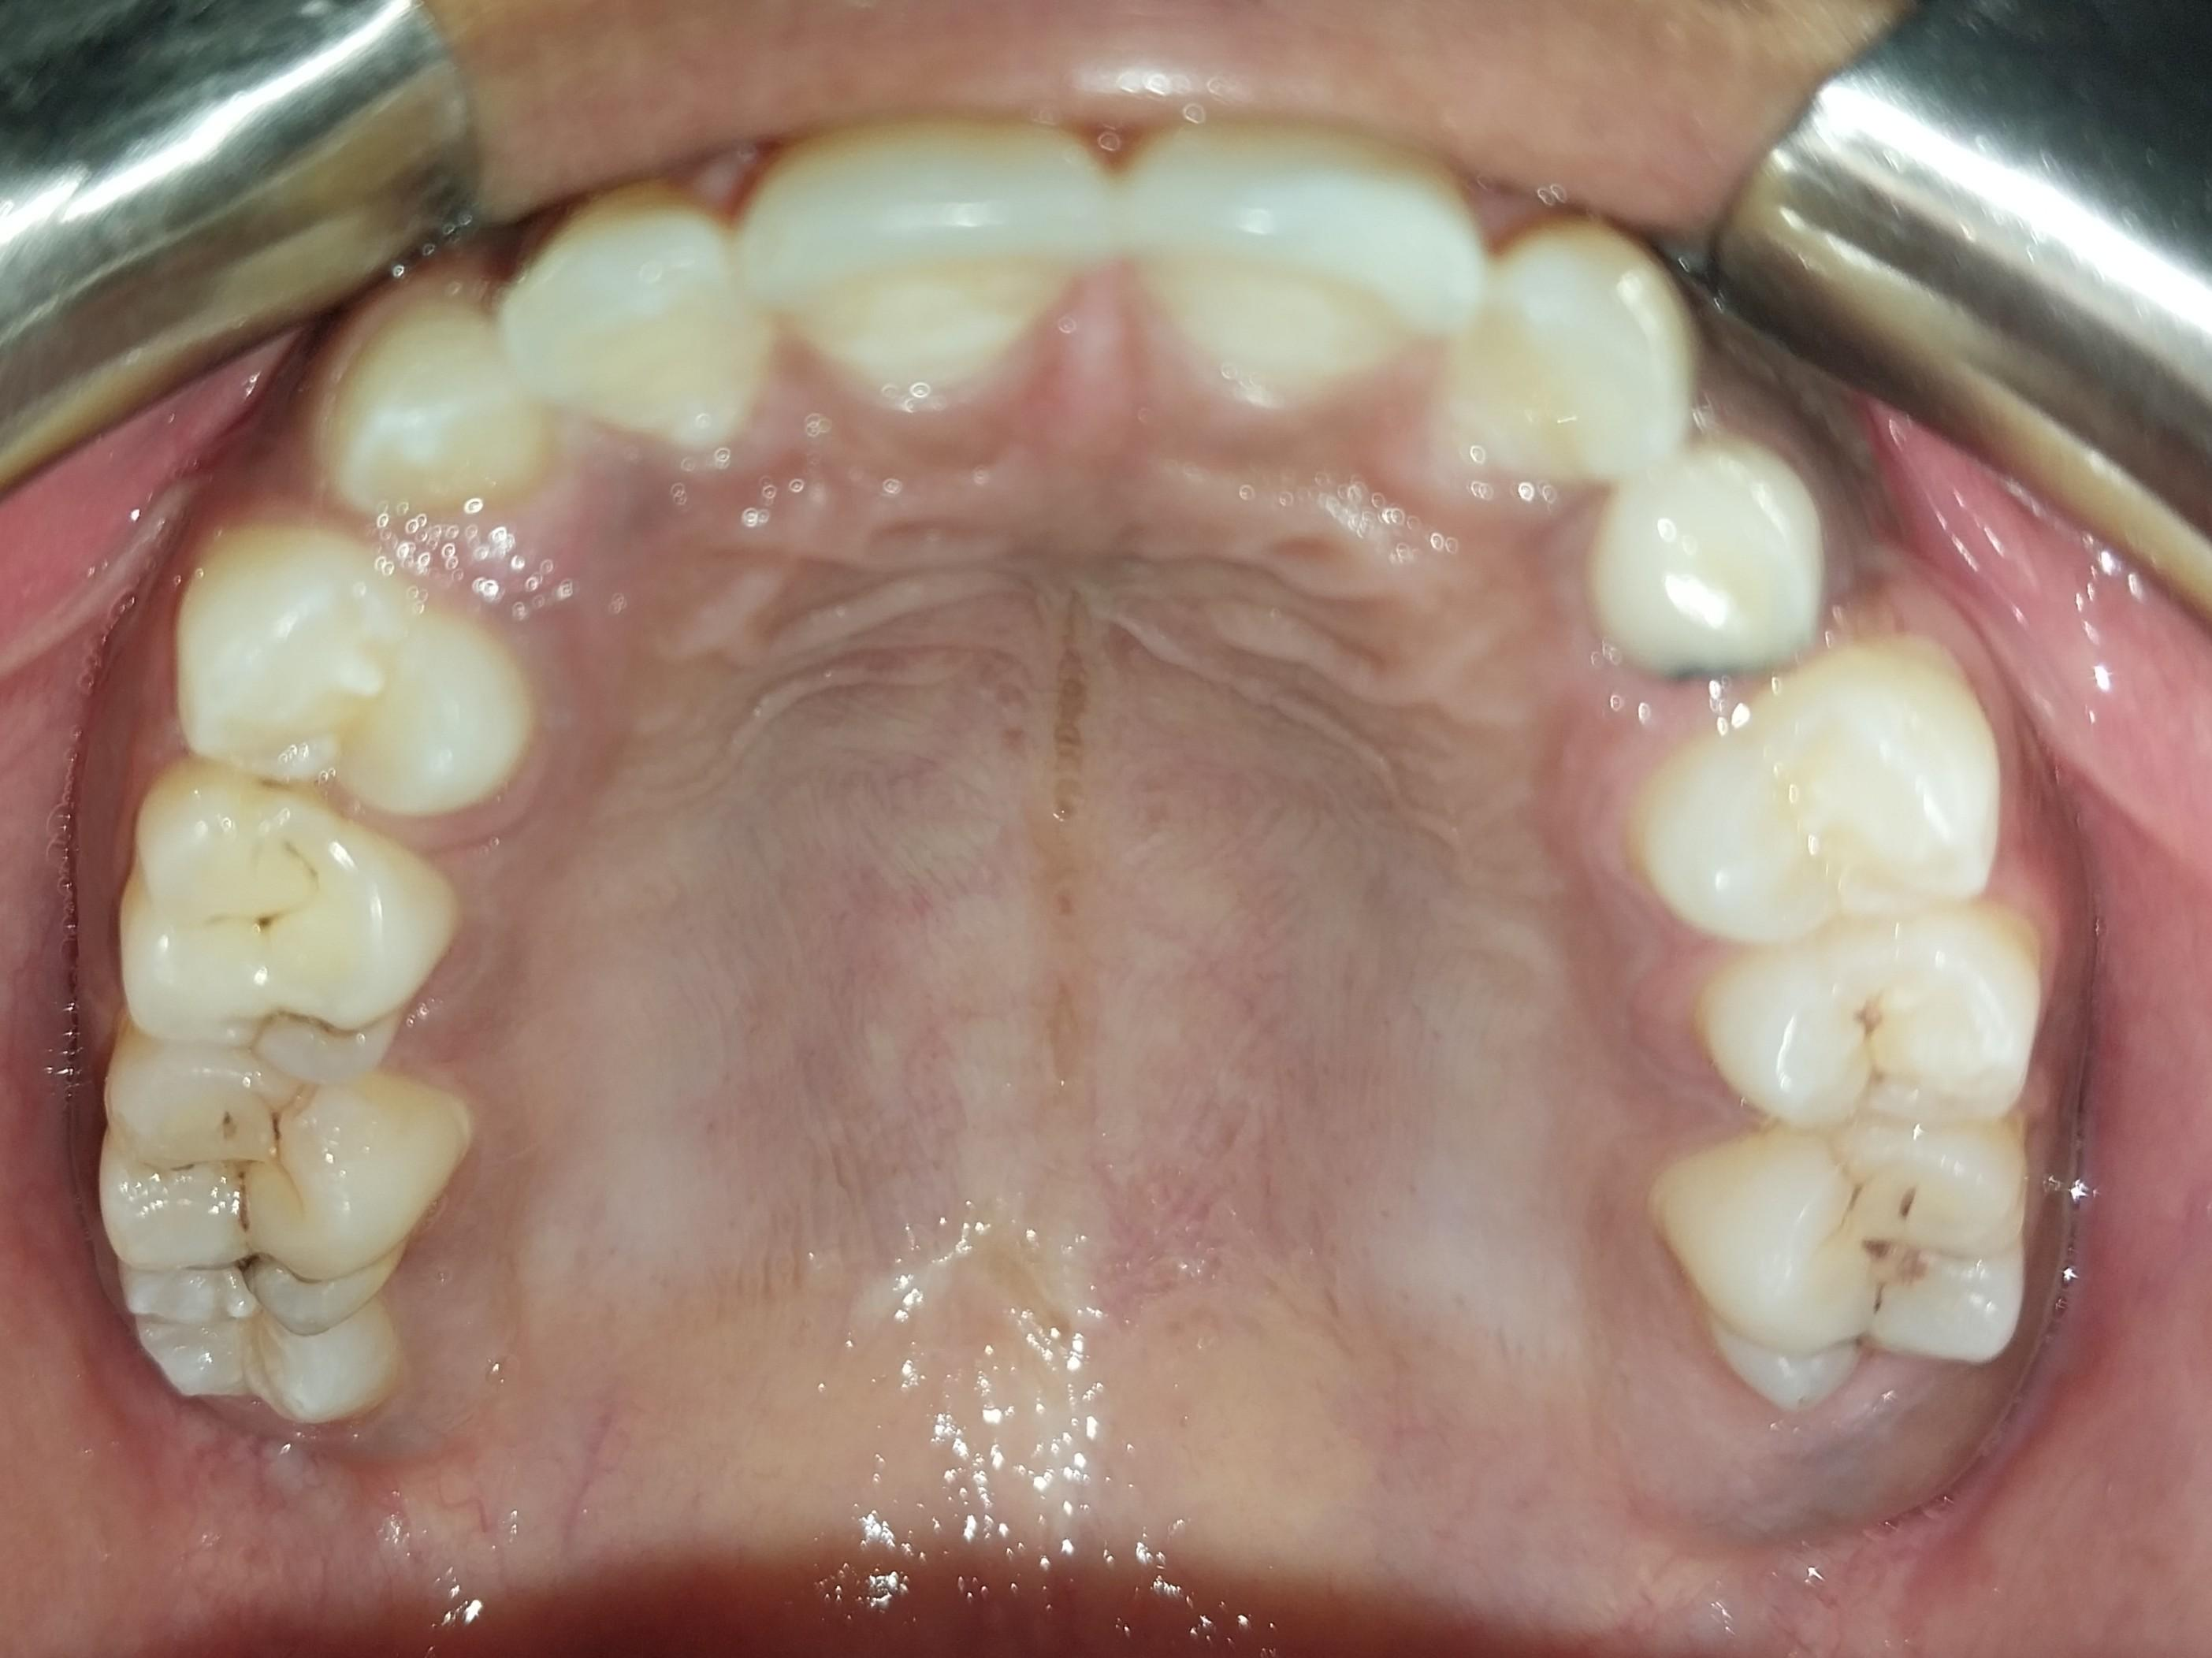D: (113, 768, 452, 1082), (100, 1050, 467, 1339), (1653, 1125, 2032, 1403)
